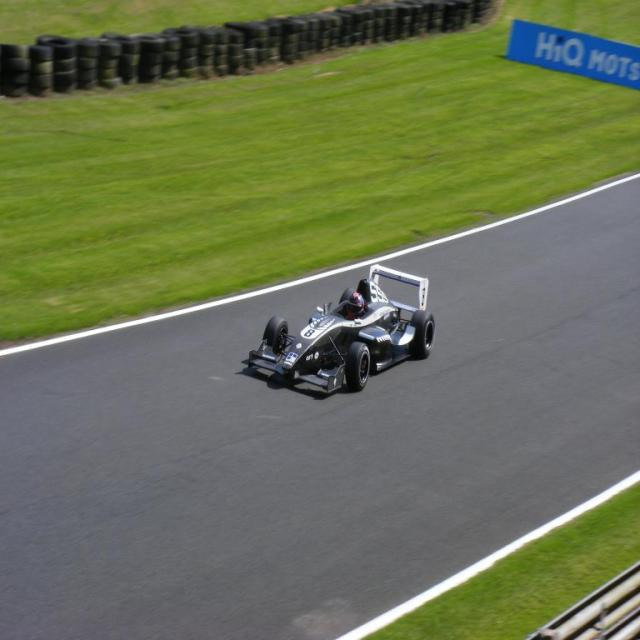car: (238, 262, 438, 394)
